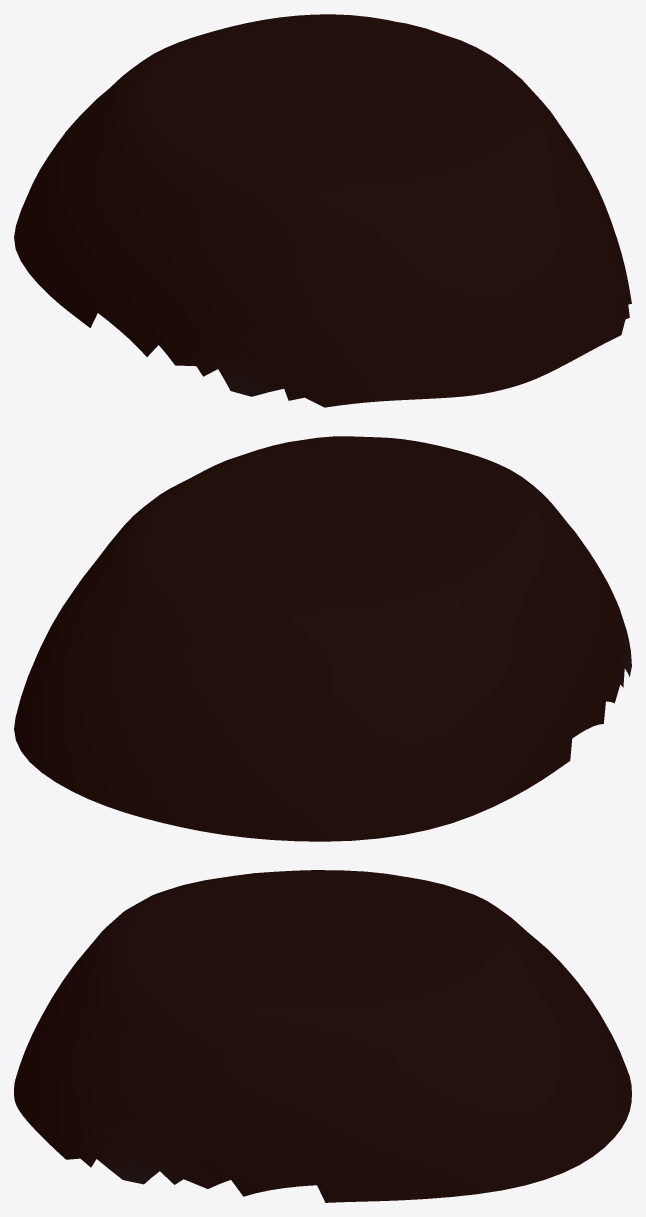
File: front04.dae
3 renders of one model, top to bottom at view 1: azimuth 30°, elevation 25°; view 2: azimuth 150°, elevation 25°; view 3: azimuth 270°, elevation 25°, orthographic. The views are drawn at different scales.
Parts seen in each view (by area): view 1: Body; view 2: Body; view 3: Body.
Boxes of the visible parts, <box> form: Body: <box>14,14,631,407</box>; Body: <box>14,436,631,841</box>; Body: <box>14,870,631,1202</box>.
Size of the model in its own units: 15.31 by 18.68 by 5.32.
